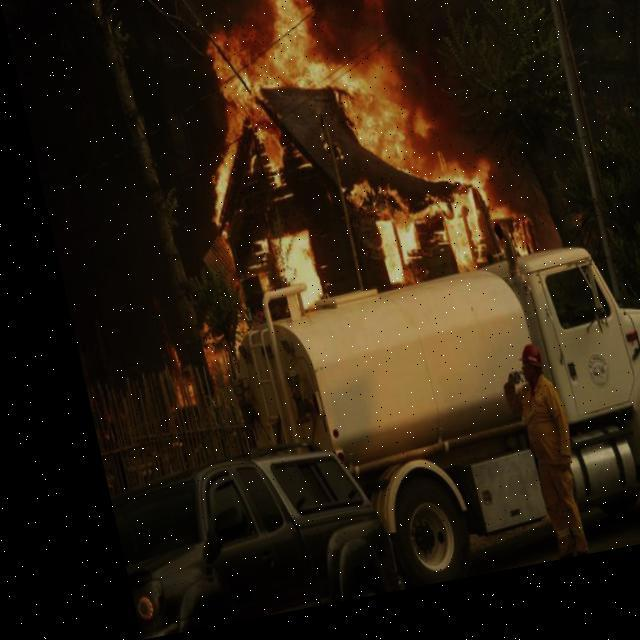Fire: (80, 0, 542, 416)
